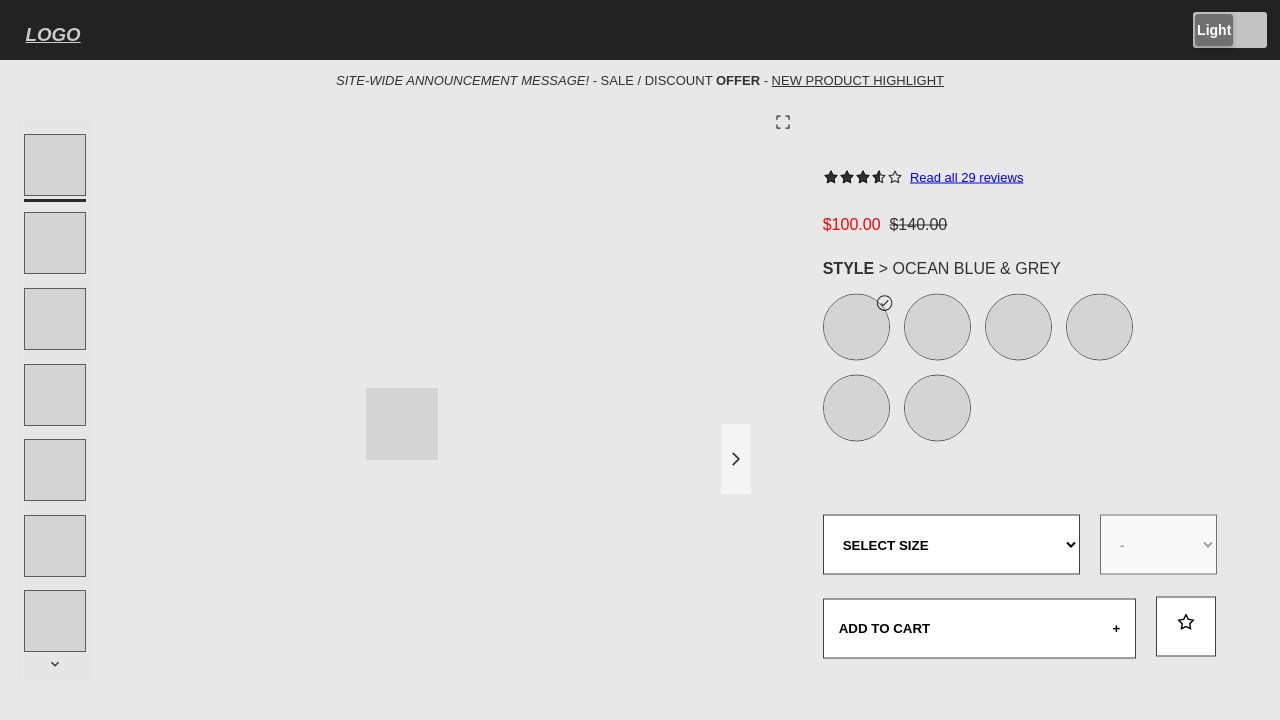
Test case: App level activity › should switch between solid and empty star when click to add/remove from my outfit
The image size is (1280, 720).
What coordinates should you click on to do the following:
click the icon with test id "empty"
I would click on:
 (1186, 623)
Its box is [1176,613,1196,633].
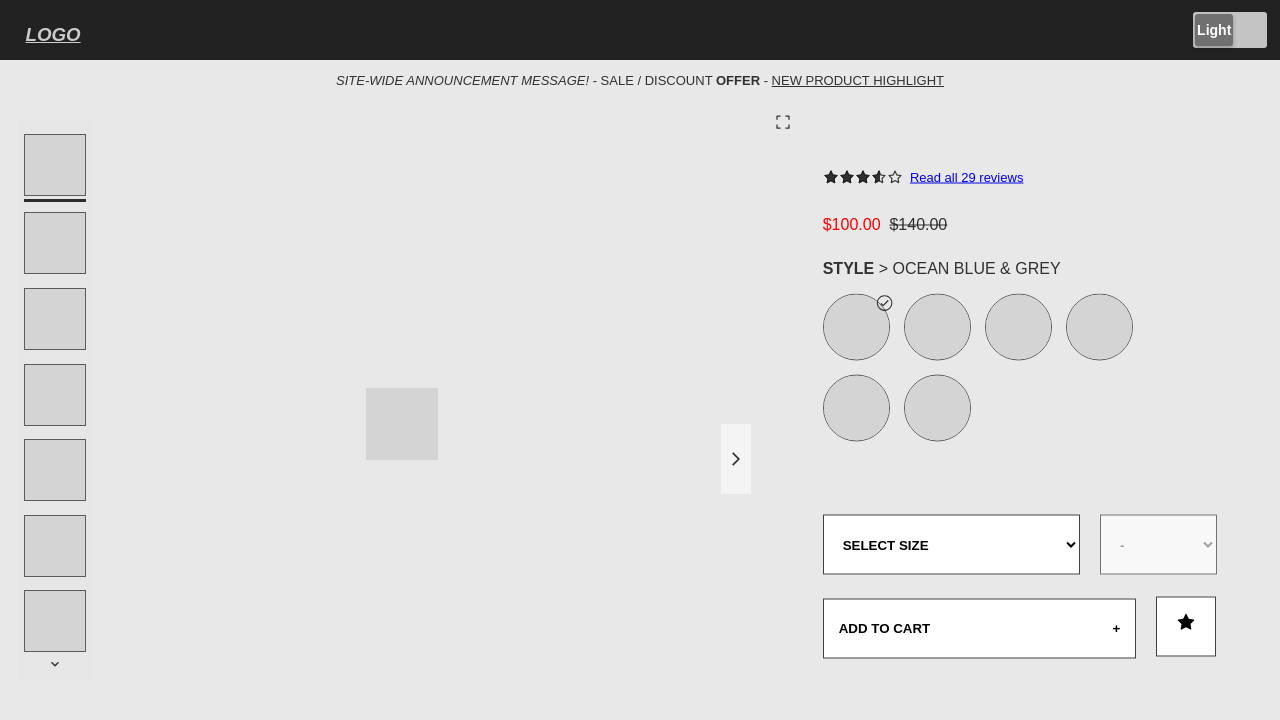
Expected: the icon with test id "filled" is shown
What coordinates should you click on to do the following:
click the icon with test id "filled"
I would click on:
 (1186, 623)
Its box is [1176,613,1196,633].
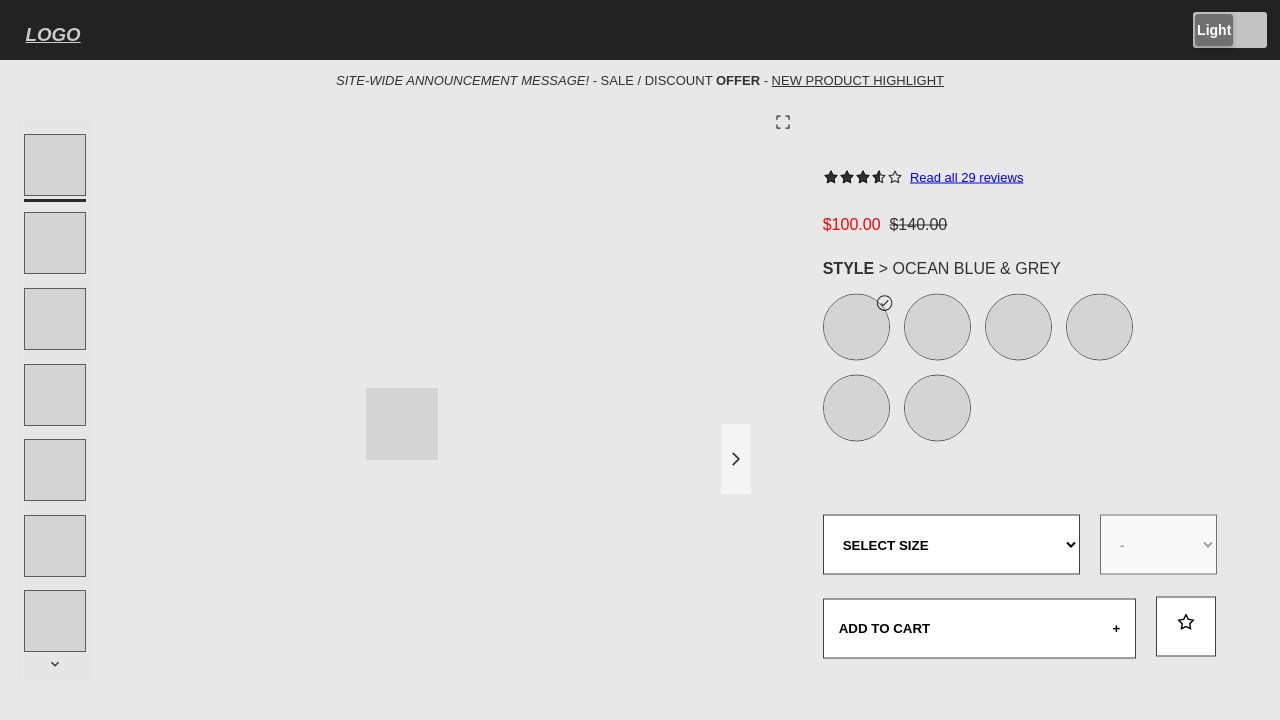
Expected: the icon with test id "empty" is shown, [1176,613,1196,633]
